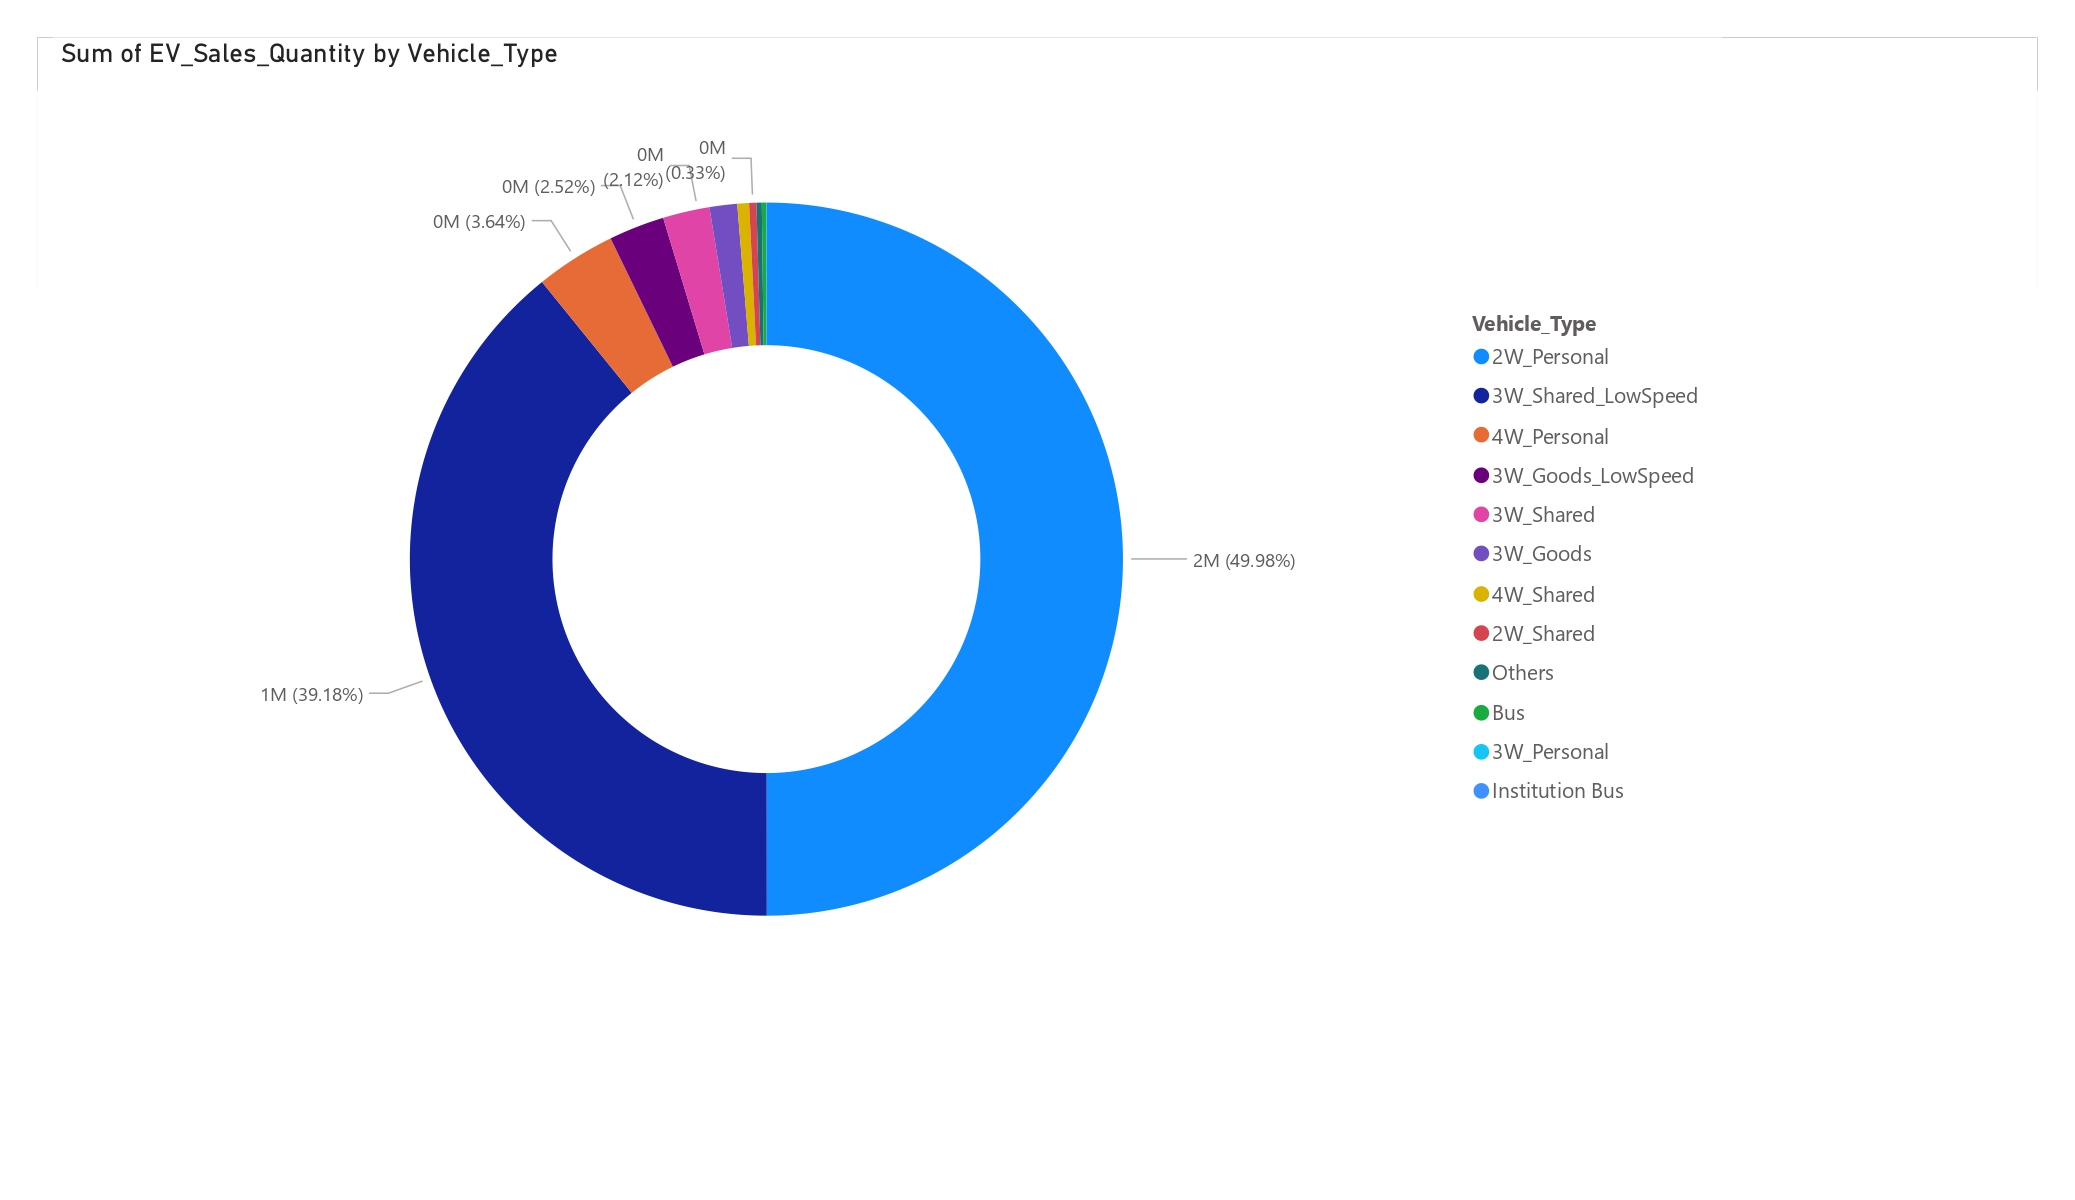

Layout of this report page (visuals, bound fields, positions):
{"tool":"powerbi","page":{"name":"Page 4","canvas":[1280,720],"ordinal":3},"visuals":[{"type":"donutChart","fields":{"Y":["Sum(ev.EV_Sales_Quantity)"],"Category":["ev.Vehicle_Type"]},"box":[9.9,0,1068.4,649.3],"z":0}]}

Visuals, with their boxes on the page's 1280x720 design canvas (x1, y1, x2, y2). These are canvas units, not pixel positions in the 2075x1200 screenshot, which may show the page scaled, cropped or inside an application window:
donutChart - Sum(ev.EV_Sales_Quantity) x ev.Vehicle_Type: BBox(10, 0, 1078, 649)
